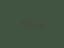eight: (38, 20, 42, 28)
four: (18, 18, 22, 27)
nine: (23, 19, 27, 27)
seven: (33, 20, 37, 28)
six: (28, 19, 32, 28)
